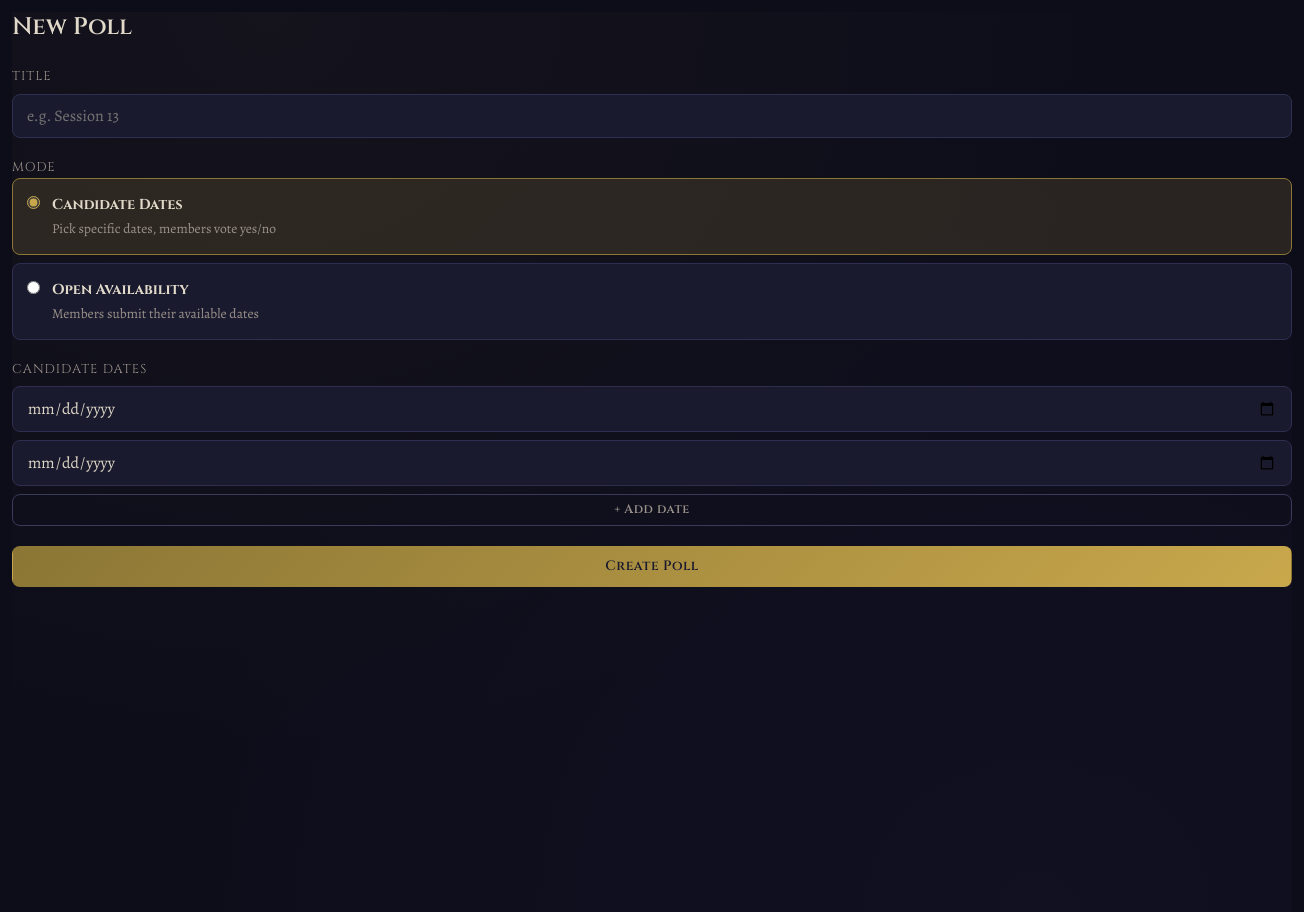
Test case: CreatePoll › shows error when submitting candidates mode with fewer than 2 dates
In the field with placeholder "e.g. Session 13": (652, 116) left=12, top=94, right=1292, bottom=138, type "Test Poll"
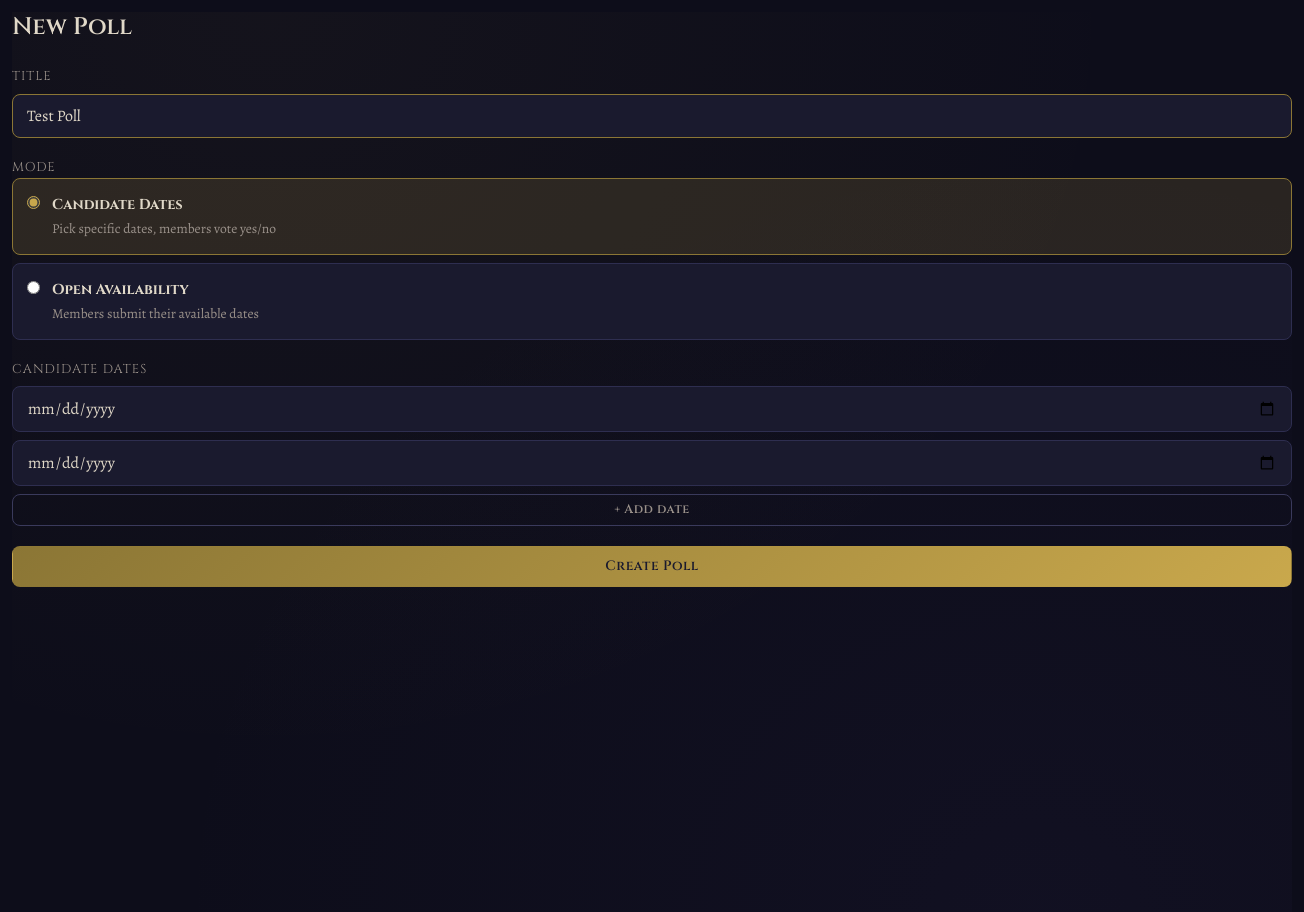
# Don't fill in any dates, just submit
Click the button "Create Poll": (652, 566) left=12, top=546, right=1292, bottom=587
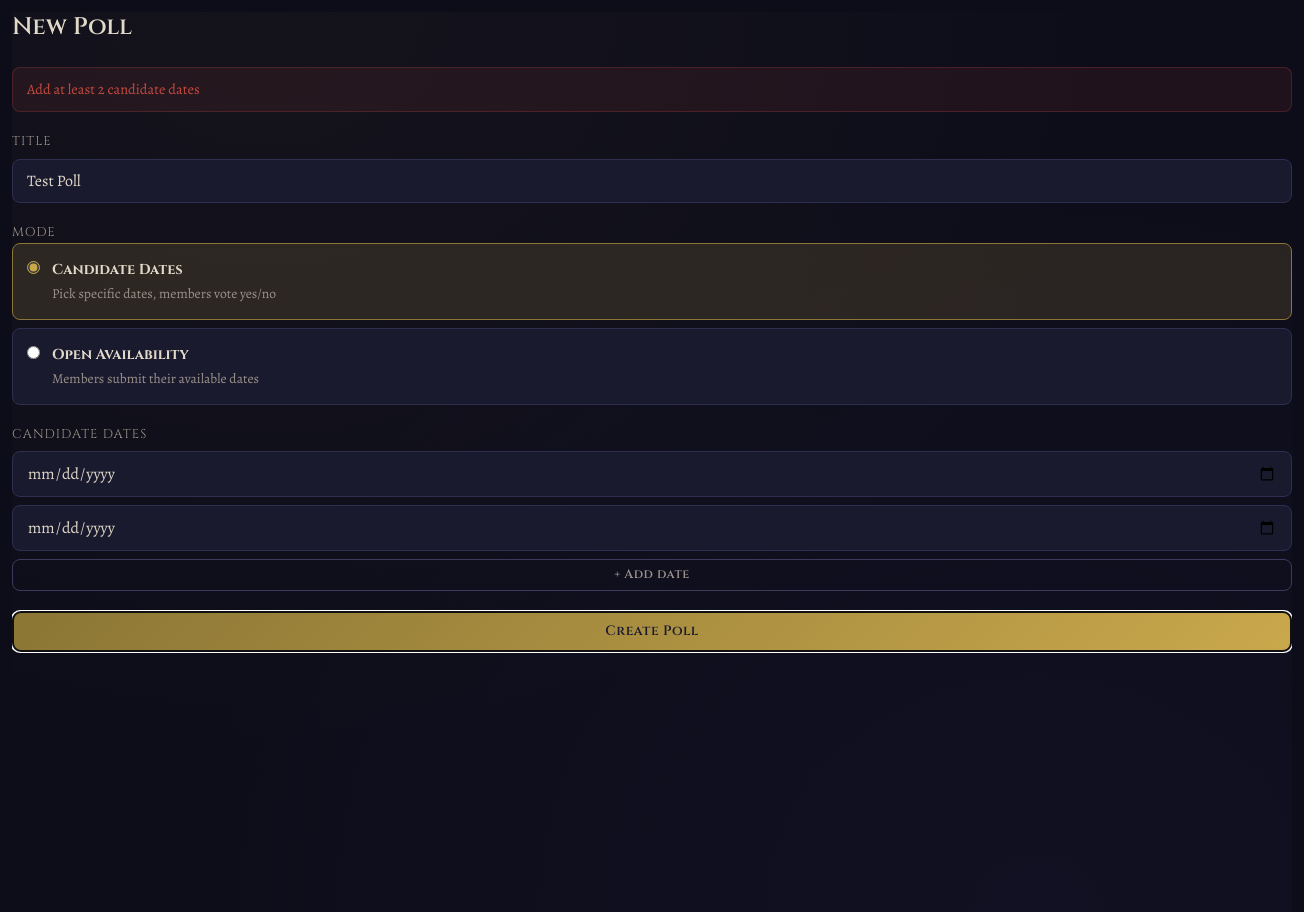
Expected: the text "Add at least 2 candidate dates" is shown, left=12, top=67, right=1292, bottom=112
